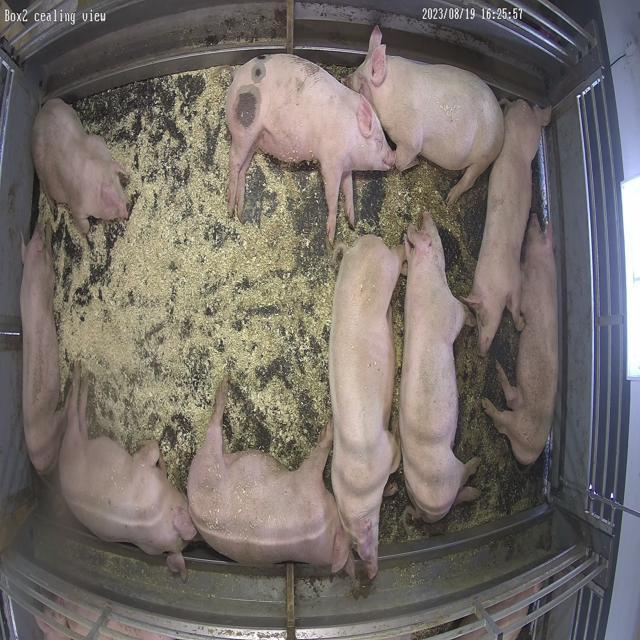Dirt: (444, 316, 547, 531), (378, 159, 489, 297), (380, 471, 432, 546)
Pig: (227, 54, 396, 242), (187, 379, 340, 568), (58, 369, 196, 576), (350, 26, 505, 202), (329, 235, 405, 580), (400, 212, 481, 524), (467, 99, 553, 356), (483, 215, 559, 466), (33, 98, 127, 232), (19, 224, 65, 475)
